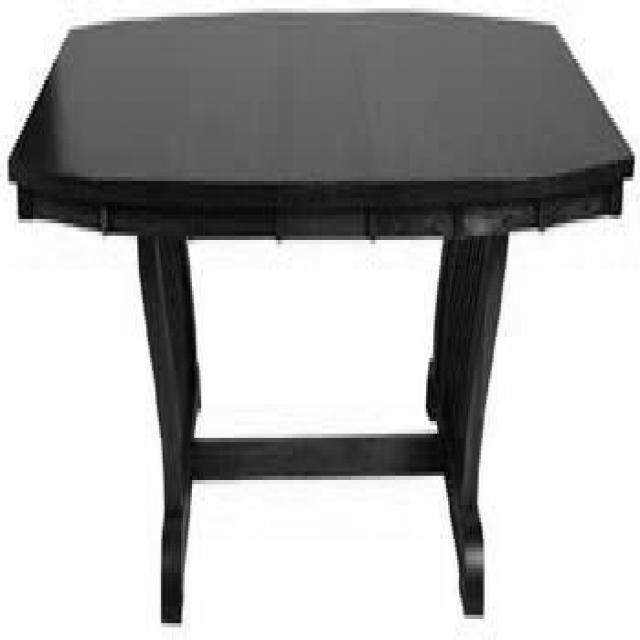table: (9, 10, 634, 622)
